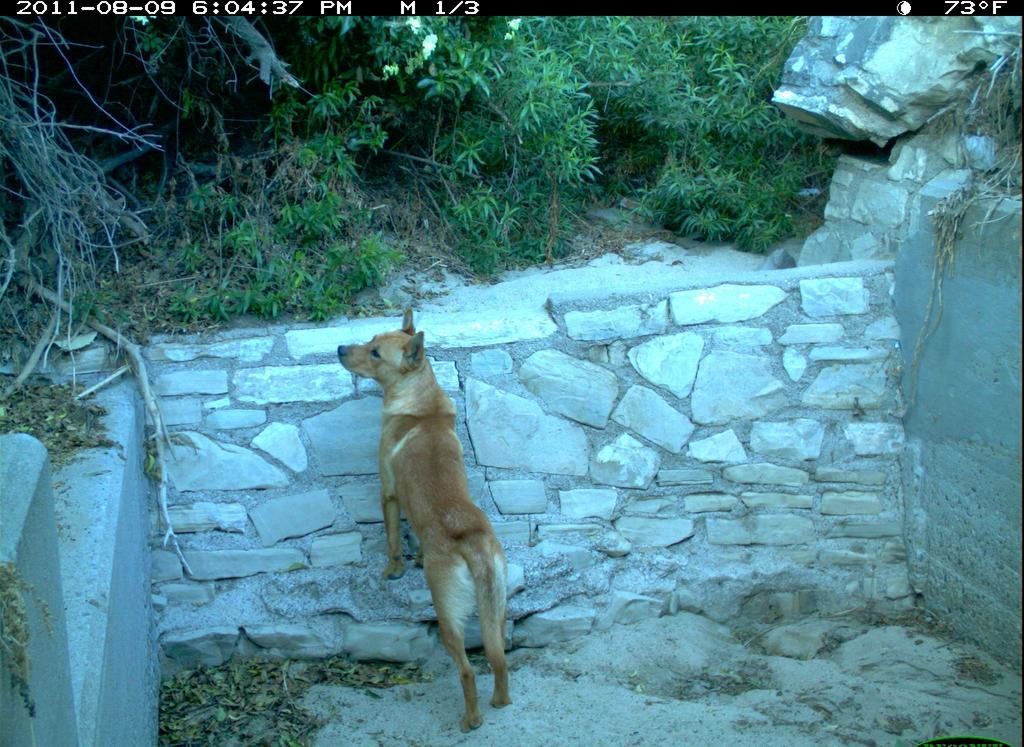dog: (332, 300, 521, 742)
